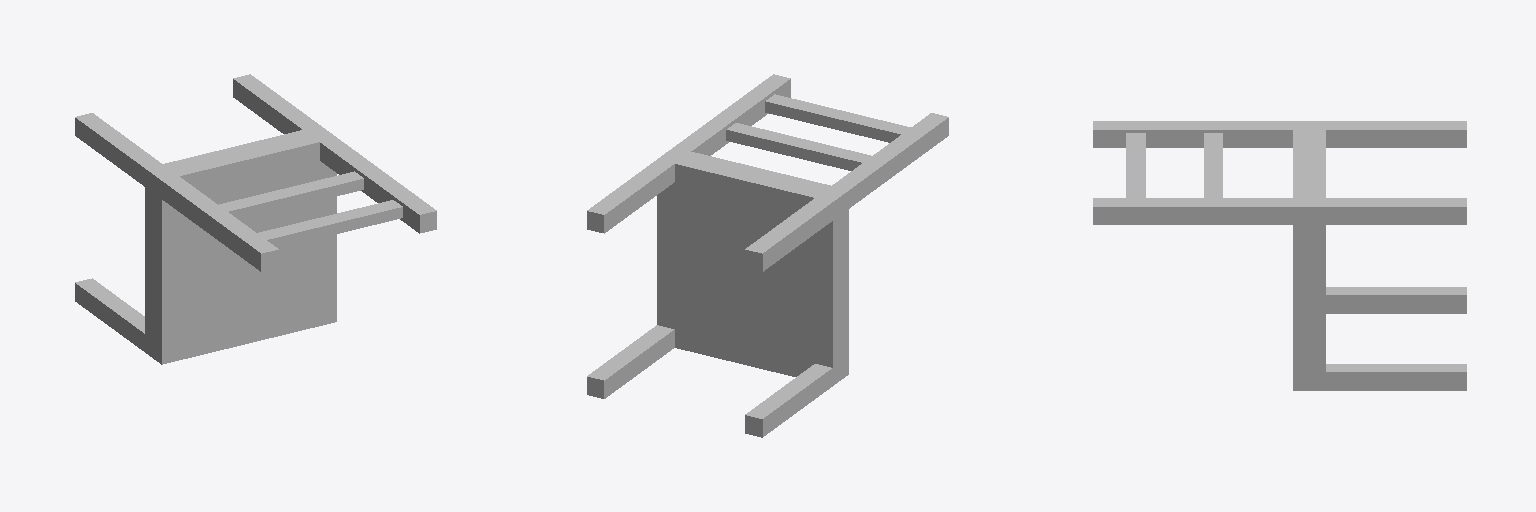
The model's file is chair.obj.
3 renders of one model, left to right at view 1: azimuth 30°, elevation 25°; view 2: azimuth 150°, elevation 25°; view 3: azimuth 270°, elevation 25°, orthographic.
Parts seen in each view (by area): view 1: Chair_Cube; view 2: Chair_Cube; view 3: Chair_Cube.
Part boxes in pixels (bbox=[...]): Chair_Cube: bbox=[75, 74, 436, 364]; Chair_Cube: bbox=[587, 74, 948, 437]; Chair_Cube: bbox=[1093, 121, 1466, 390].
Bounding box in the file's own units: 0.5434 × 0.544 × 1.